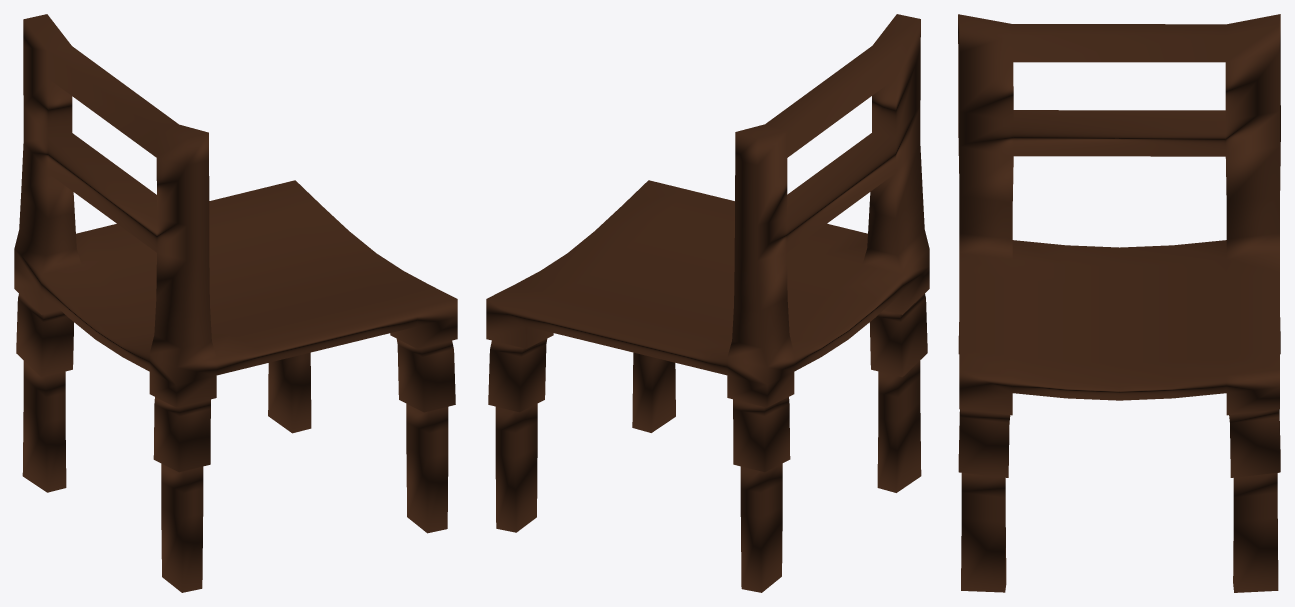
File: cadeira.fbx
The picture shows the model from 3 angles, left to right: view 1: azimuth 30°, elevation 25°; view 2: azimuth 150°, elevation 25°; view 3: azimuth 270°, elevation 25°; orthographic projection.
Parts seen in each view (by area): view 1: Cube; view 2: Cube; view 3: Cube.
Boxes of the visible parts, left/top/right/bottom form: Cube: left=14, top=14, right=457, bottom=592; Cube: left=486, top=14, right=929, bottom=592; Cube: left=958, top=14, right=1280, bottom=592.
Bounding box in the file's own units: 179 × 279 × 181.
